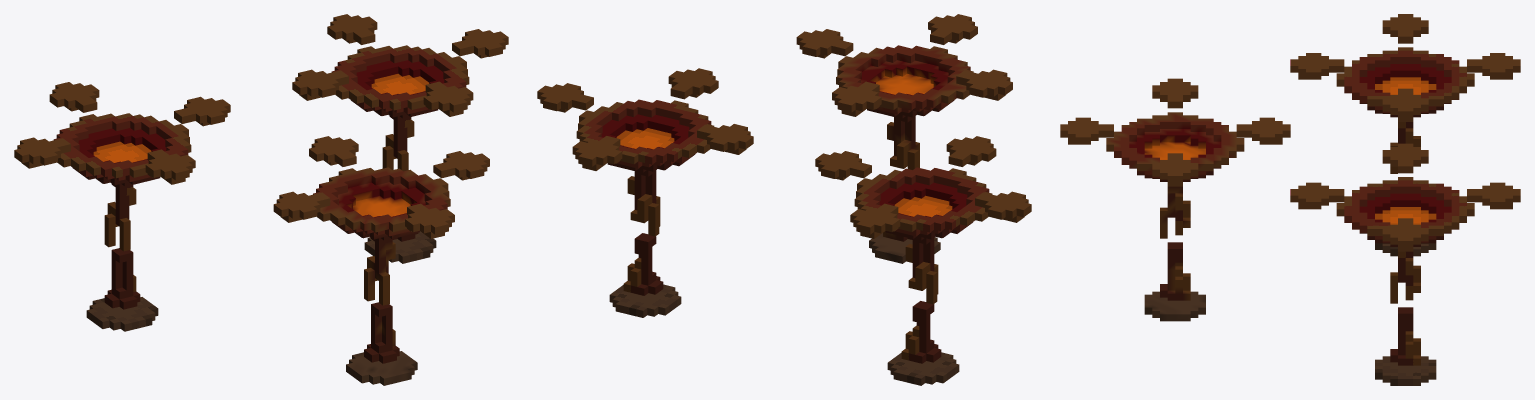
3 views of the same model, side by side, from view 1: azimuth 30°, elevation 25°; view 2: azimuth 150°, elevation 25°; view 3: azimuth 270°, elevation 25° (orthographic). The views are drawn at different scales.
Parts seen in each view (by area): view 1: chum_16_detach, chum_16_detach.002, chum_16_detach.001; view 2: chum_16_detach.001, chum_16_detach, chum_16_detach.002; view 3: chum_16_detach.002, chum_16_detach.001, chum_16_detach.
Part boxes in pixels (x1=…): chum_16_detach: x1=14, y1=82, x2=230, y2=331; chum_16_detach.002: x1=273, y1=136, x2=489, y2=385; chum_16_detach.001: x1=292, y1=14, x2=508, y2=263; chum_16_detach.001: x1=537, y1=68, x2=753, y2=317; chum_16_detach: x1=815, y1=136, x2=1031, y2=385; chum_16_detach.002: x1=796, y1=14, x2=1012, y2=263; chum_16_detach.002: x1=1060, y1=78, x2=1290, y2=321; chum_16_detach.001: x1=1290, y1=143, x2=1520, y2=385; chum_16_detach: x1=1290, y1=14, x2=1520, y2=256.
Size of the model in its own units: 7 by 2.6 by 6.
Materials: 3 (2 with a texture image).
